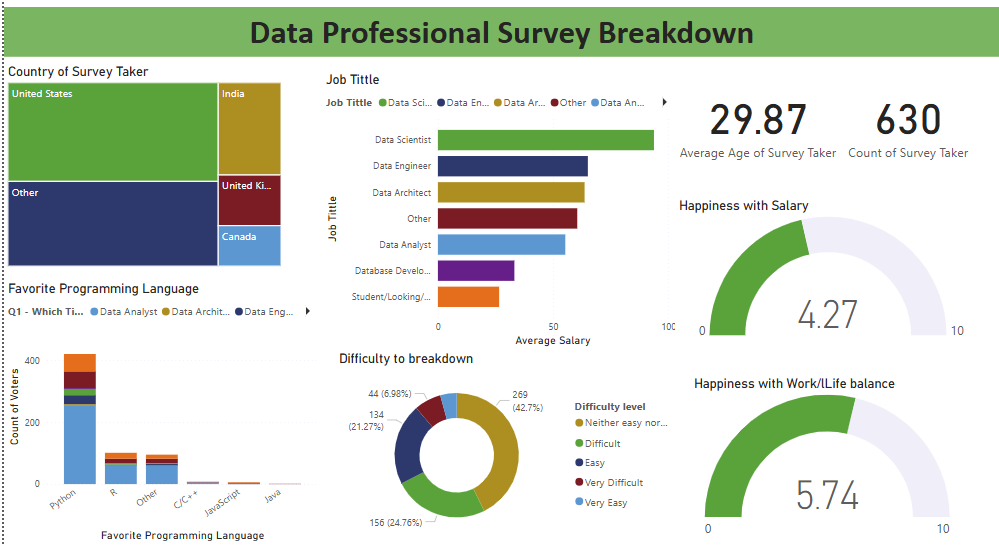

The page's visual inventory and layout, read from the dashboard file:
{"tool":"powerbi","page":{"name":"Page 1","canvas":[1280,720],"ordinal":0},"visuals":[{"type":"textbox","box":[0,28.3,1280.6,64.3],"z":0},{"type":"card","fields":{"Values":["CountNonNull(Data Professional Survey.Unique ID)"]},"box":[1058.8,101.6,206.1,149.6],"z":1000},{"type":"card","fields":{"Values":["Avg(Data Professional Survey.Q10 - Current Age)"]},"box":[862.6,101.6,213.2,149.6],"z":2000},{"type":"barChart","title":"Job Tittle","fields":{"Category":["Data Professional Survey.Q1 - Which Title Best Fits your Current Role?.1"],"Y":["Avg(Data Professional Survey.Average Salary)"],"Series":["Data Professional Survey.Q1 - Which Title Best Fits your Current Role?.1"]},"box":[409.4,111.5,460.2,358.6],"z":3000},{"type":"columnChart","title":"Favorite Programming Language","fields":{"Category":["Data Professional Survey.Q5 - Favorite Programming Language.1"],"Y":["CountNonNull(Data Professional Survey.Unique ID)"],"Series":["Data Professional Survey.Q1 - Which Title Best Fits your Current Role?.1"]},"box":[0,380.6,408.9,339.4],"z":4000},{"type":"treemap","title":"Country of Survey Taker","fields":{"Group":["Data Professional Survey.Q11 - Which Country do you live in?.1"],"Values":["CountNonNull(Data Professional Survey.Q11 - Which Country do you live in?.1)"]},"box":[0,101.6,361.3,264.9],"z":5000},{"type":"gauge","title":"Happiness with Work/lLife balance","fields":{"Y":["Avg(Data Professional Survey.Q6 - How Happy are you in your Current Position with the following? (Work/Life Balance))"],"MinValue":["Min(Data Professional Survey.Q6 - How Happy are you in your Current Position with the following? (Work/Life Balance))"],"MaxValue":["Max(Data Professional Survey.Q6 - How Happy are you in your Current Position with the following? (Work/Life Balance))"]},"box":[882.4,502.6,352.9,217.4],"z":6000},{"type":"gauge","title":"Happiness with Salary","fields":{"Y":["Avg(Data Professional Survey.Q6 - How Happy are you in your Current Position with the following? (Salary))"],"MinValue":["Min(Data Professional Survey.Q6 - How Happy are you in your Current Position with the following? (Salary))"],"MaxValue":["Max(Data Professional Survey.Q6 - How Happy are you in your Current Position with the following? (Salary))"]},"box":[862.6,273.9,402.4,186.4],"z":7000},{"type":"donutChart","title":"Difficulty to breakdown","fields":{"Category":["Data Professional Survey.Q7 - How difficult was it for you to break into Data?"],"Y":["CountNonNull(Data Professional Survey.Q7 - How difficult was it for you to break into Data?)"]},"box":[426,471,443,249],"z":8000}]}

Visuals, with their boxes on the page's 1280x720 design canvas (x1, y1, x2, y2). These are canvas units, not pixel positions in the 999x545 screenshot, which may show the page scaled, cropped or inside an application window:
textbox: (0, 28, 1281, 93)
card - CountNonNull(Data Professional Survey.Unique ID): (1059, 102, 1265, 251)
card - Avg(Data Professional Survey.Q10 - Current Age): (863, 102, 1076, 251)
"Job Tittle" barChart: (409, 112, 870, 470)
"Favorite Programming Language" columnChart: (0, 381, 409, 720)
"Country of Survey Taker" treemap: (0, 102, 361, 366)
"Happiness with Work/lLife balance" gauge: (882, 503, 1235, 720)
"Happiness with Salary" gauge: (863, 274, 1265, 460)
"Difficulty to breakdown" donutChart: (426, 471, 869, 720)
